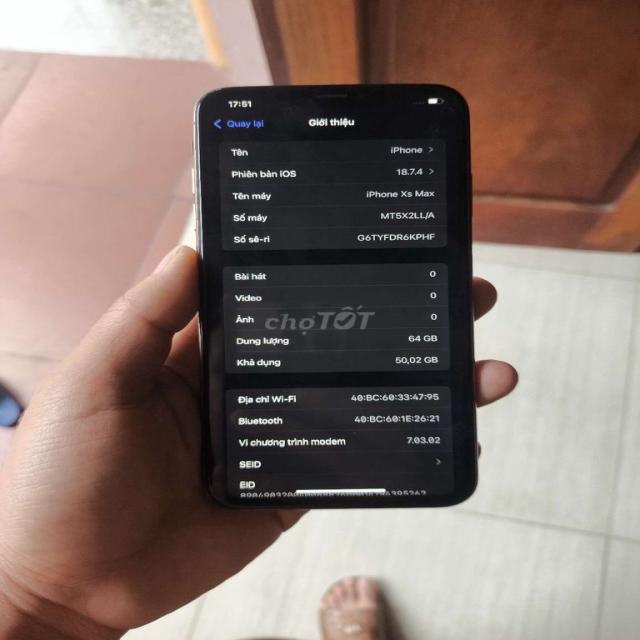gen_x_xs: (194, 84, 478, 509)
